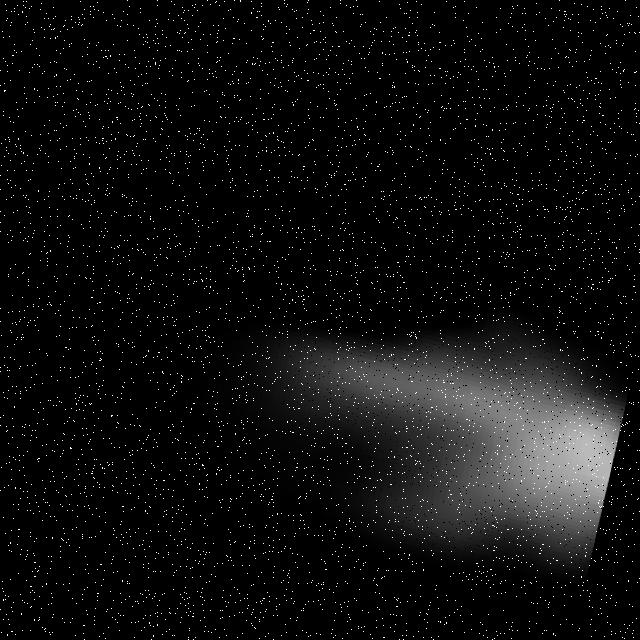person: (214, 232, 636, 575)
